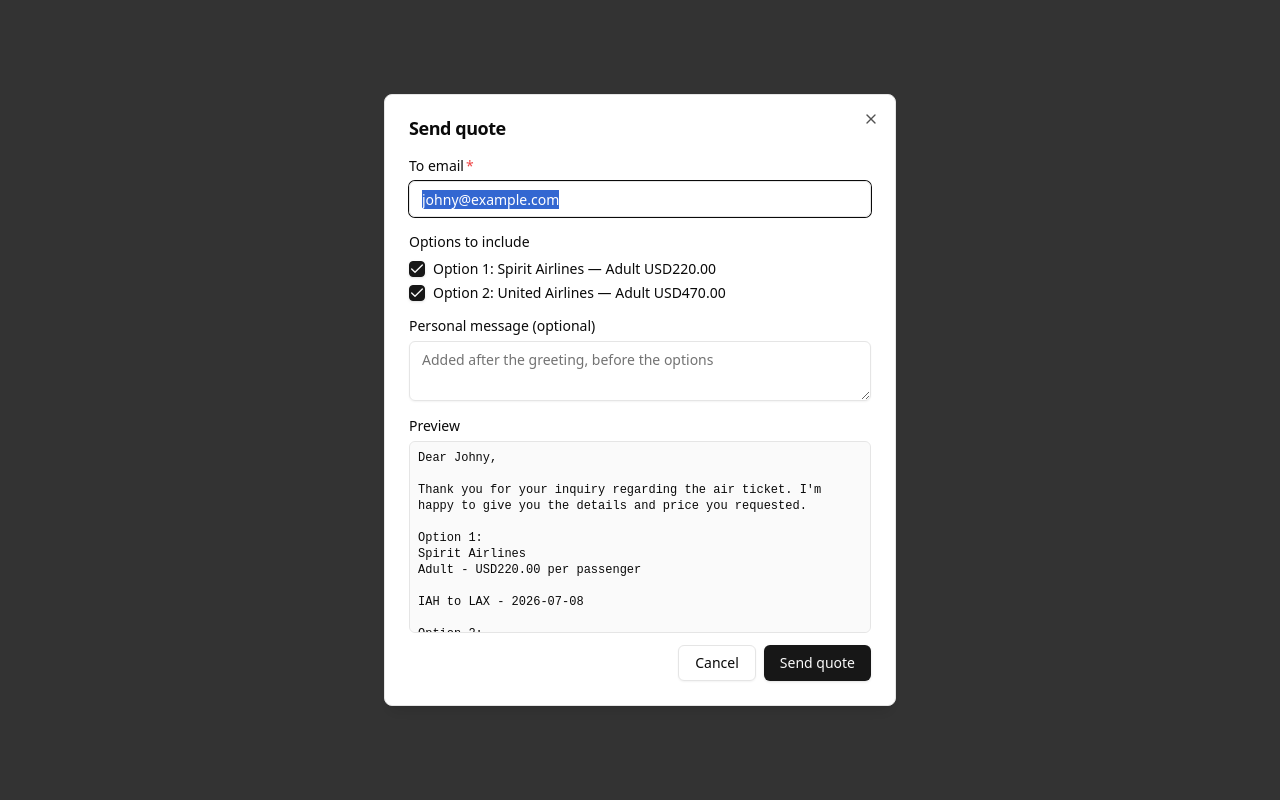
Scenario: SendQuoteDialog › disables sending when no option is checked
Click the checkbox named "Option 1: Spirit Airlines" at (417, 269), box [409,261,425,277]
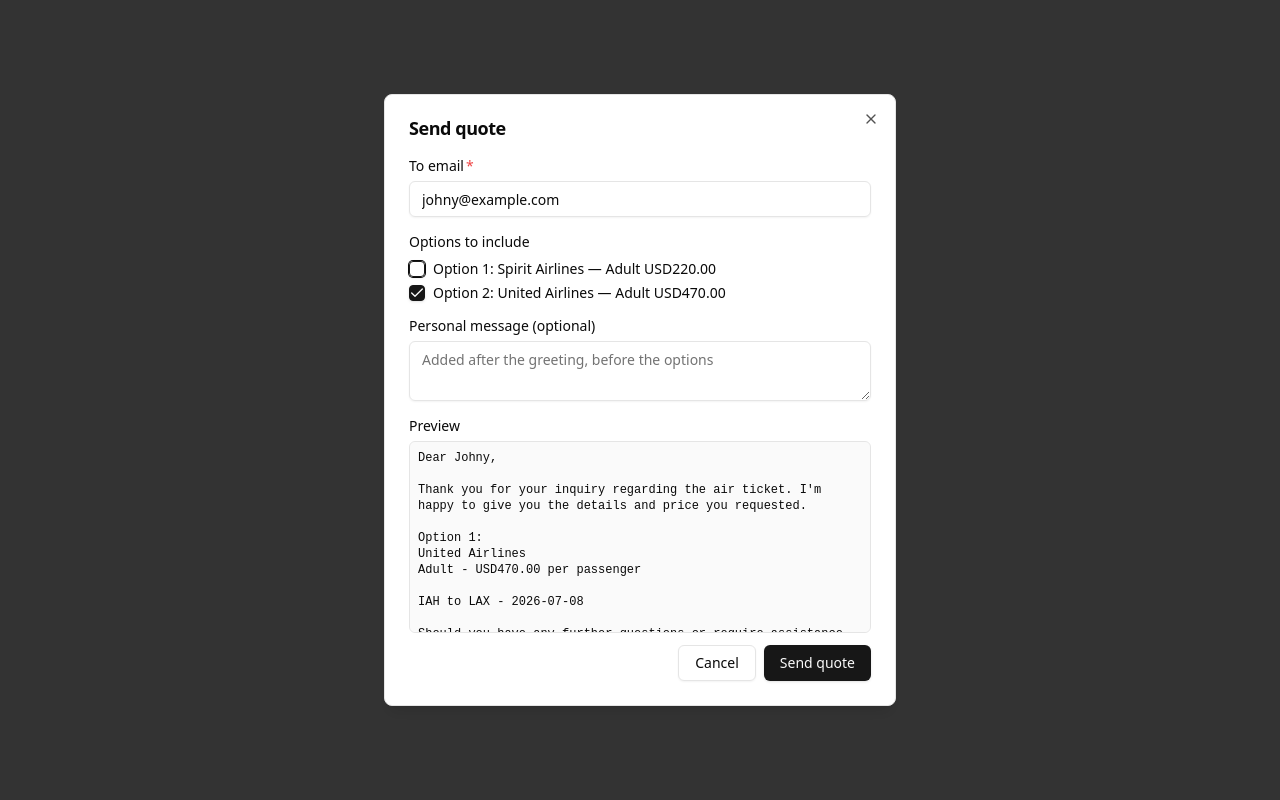
Click the checkbox named "Option 2: United Airlines" at (417, 293), box [409,285,425,301]
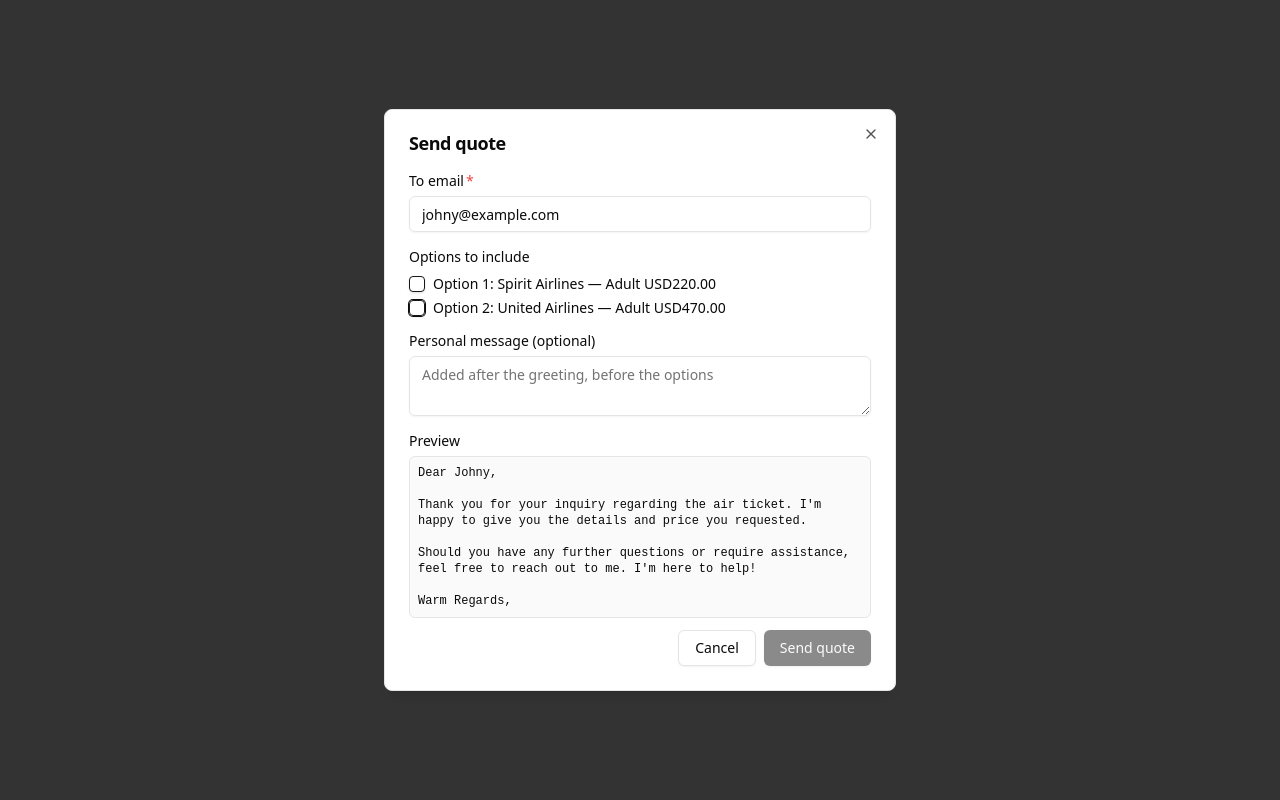
Check: the button "Send quote" is disabled, box [764,630,871,666]
